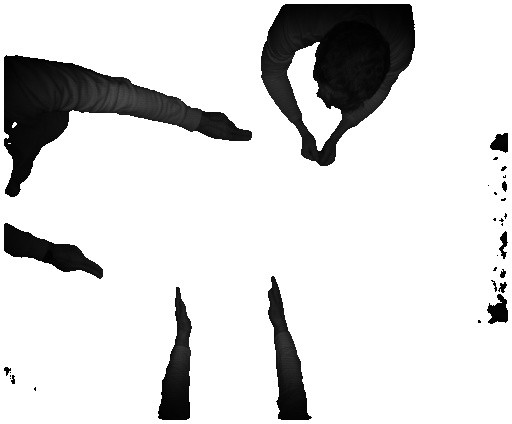fist: (297, 138, 321, 162), (319, 144, 335, 167)
hand: (55, 242, 103, 279), (205, 111, 255, 143)
spine: (264, 274, 291, 330), (168, 286, 191, 342)
